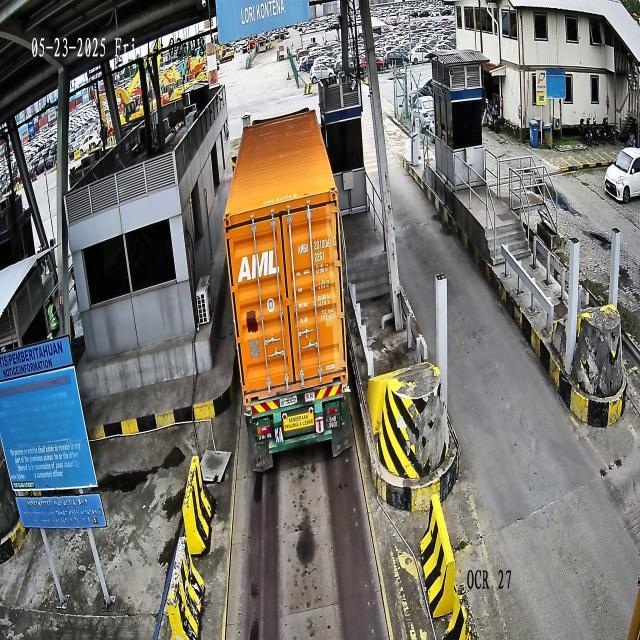ISO: (314, 249, 326, 263)
container_number: (298, 236, 338, 256)
